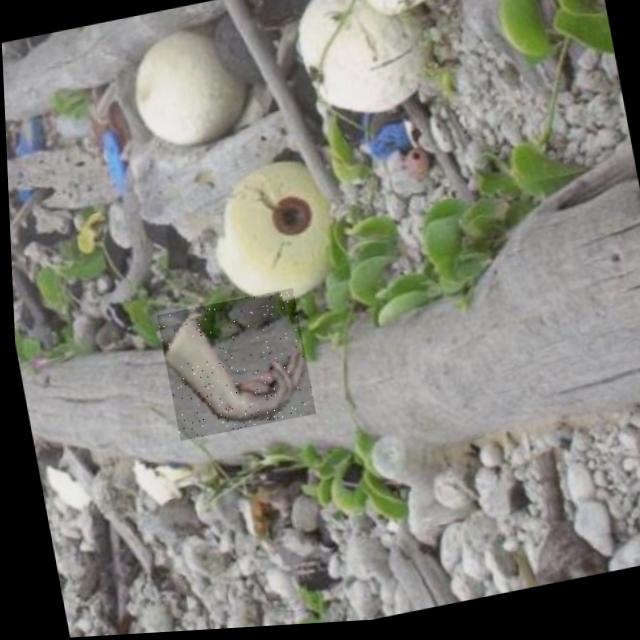Person in Rubble: (154, 290, 313, 443)
